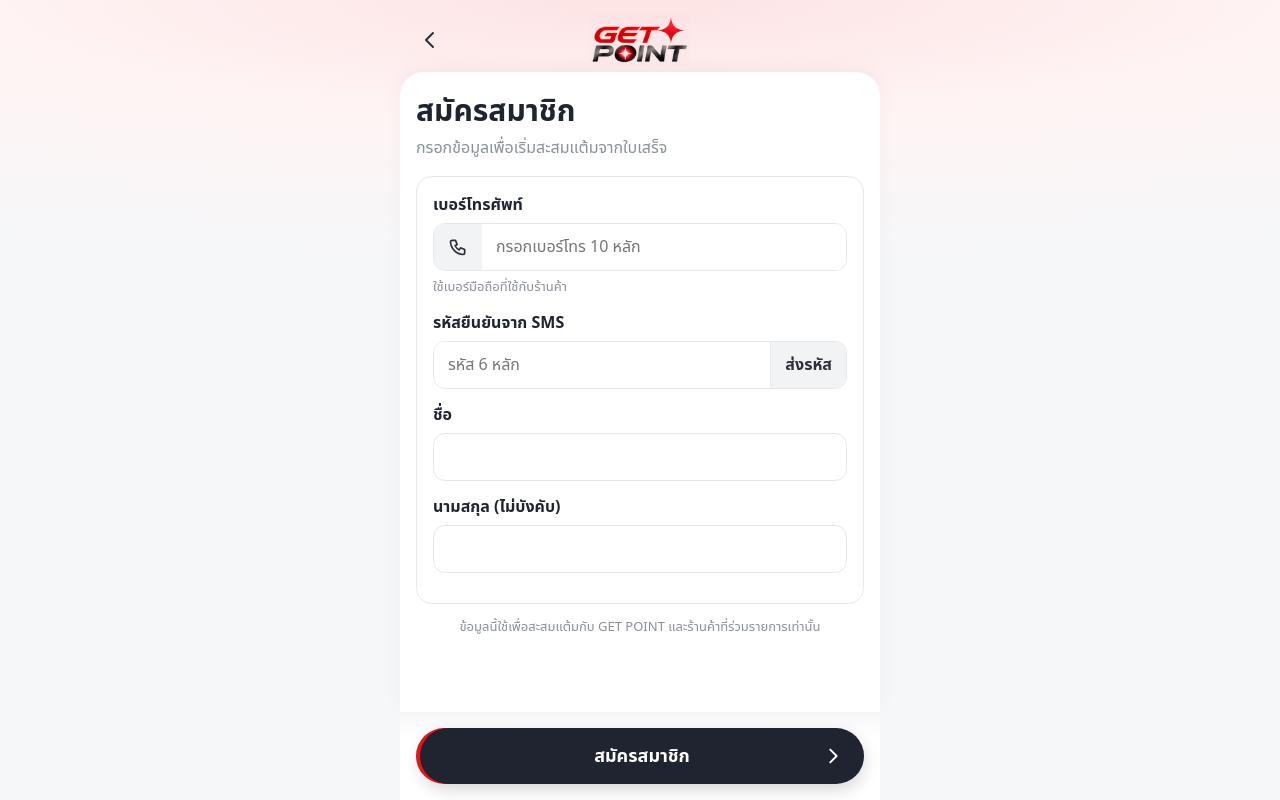
Scenario: sign-up › with SMS checking on: sends a code and shows a wrong-code message on the code field
In the field with placeholder "กรอกเบอร์โทร 10 หลัก": (664, 246) [482,224,846,270], type "0815551234"
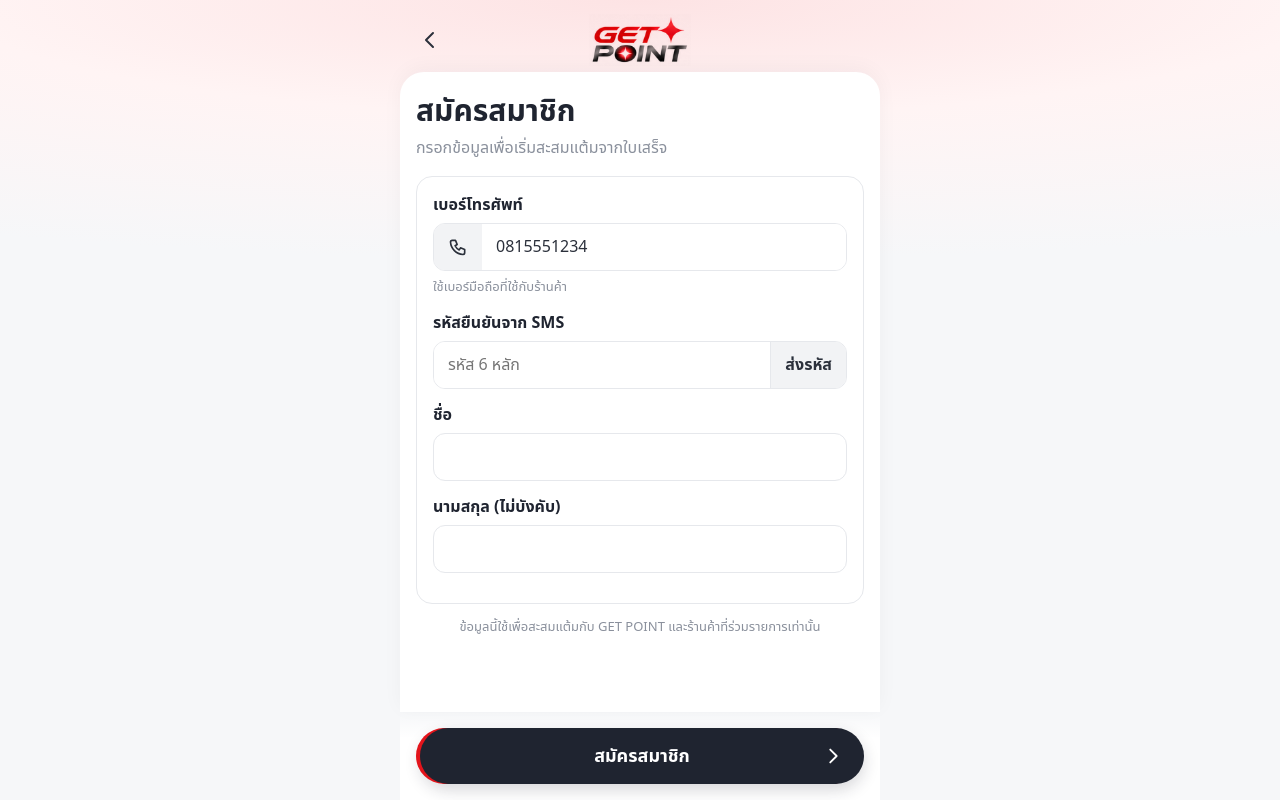
Click the button "ส่งรหัส": click(808, 364) [770,342,846,388]
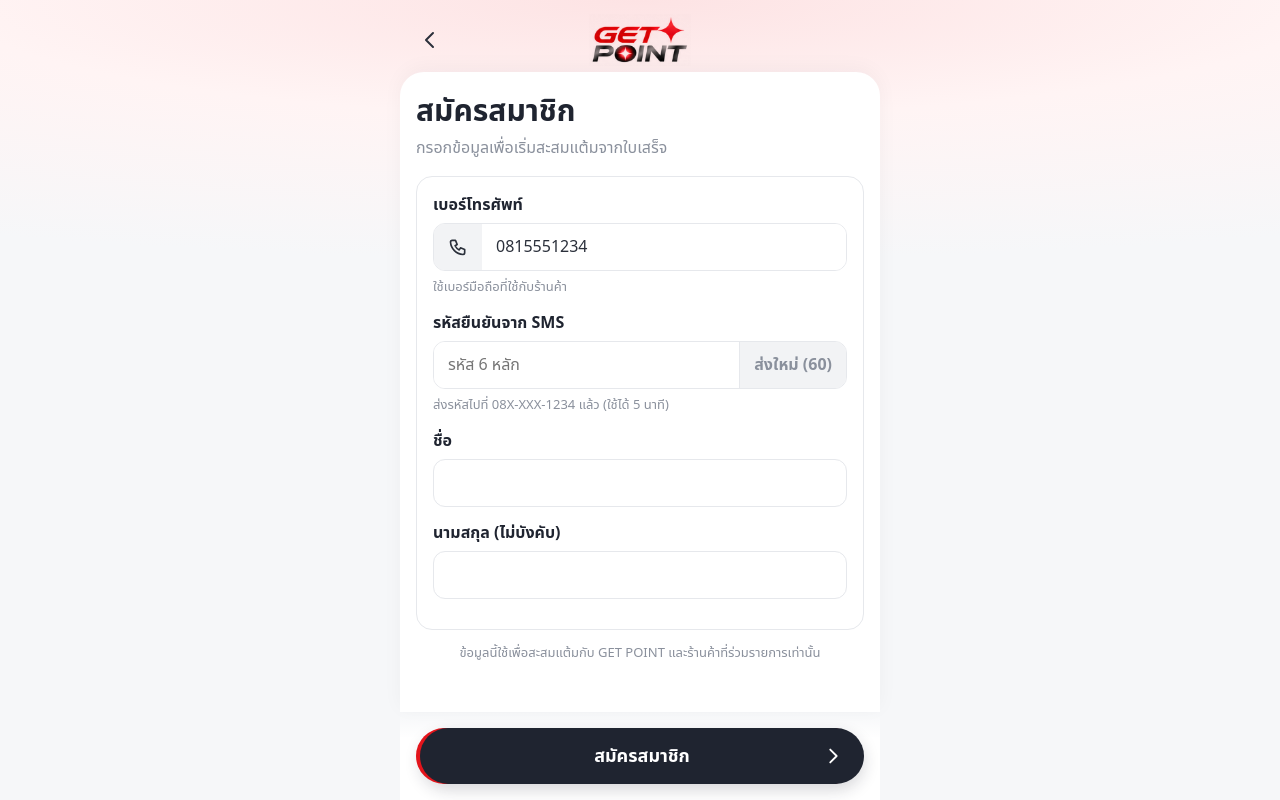
Check: the text "ส่งรหัสไปที่ 08X-XXX-1234 แล้ว (ใช้ได้ 5 นาที)" is shown, box [433,394,669,414]
Check: the button "ส่งใหม่ (60)" is disabled, box [739,342,846,388]
In the field with placeholder "รหัส 6 หลัก": (587, 364) [434,342,739,388], type "123456"
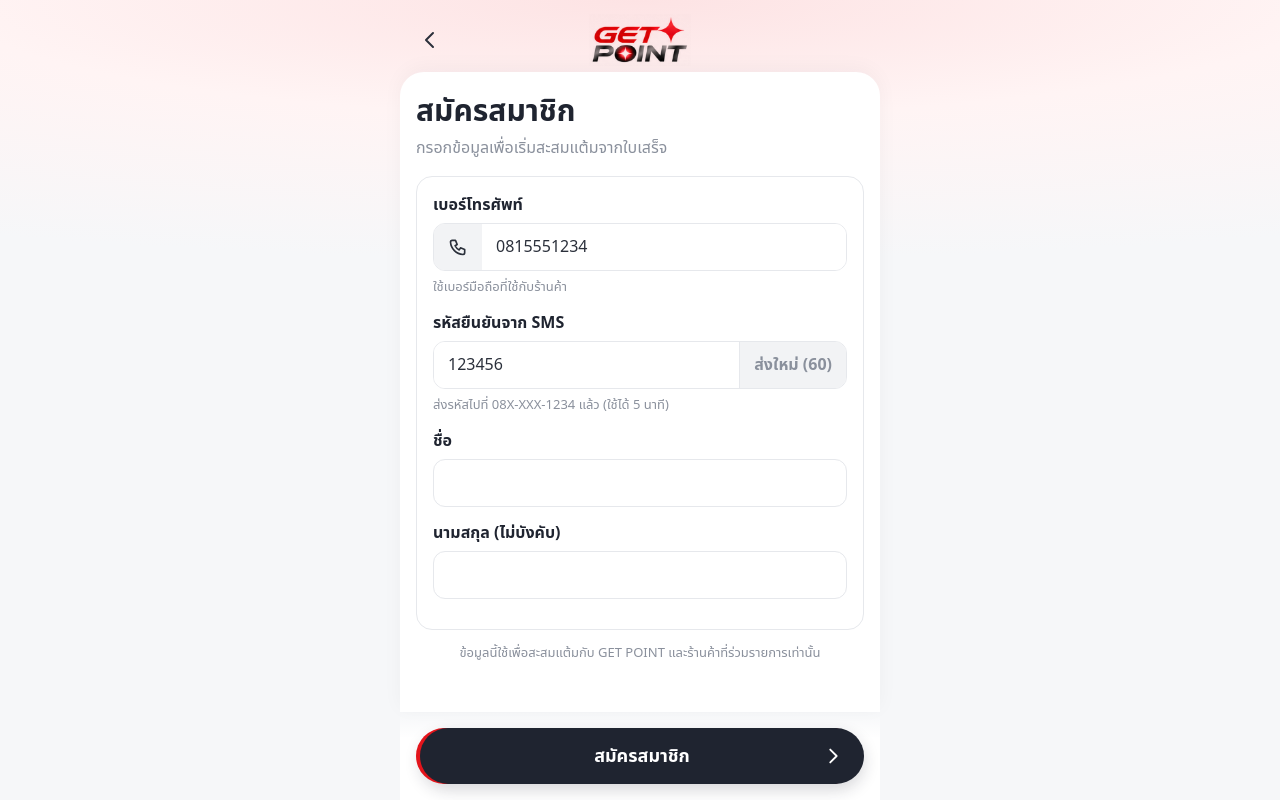
In the field labelled "ชื่อ": (640, 482) [433,458,847,506], type "เอ"
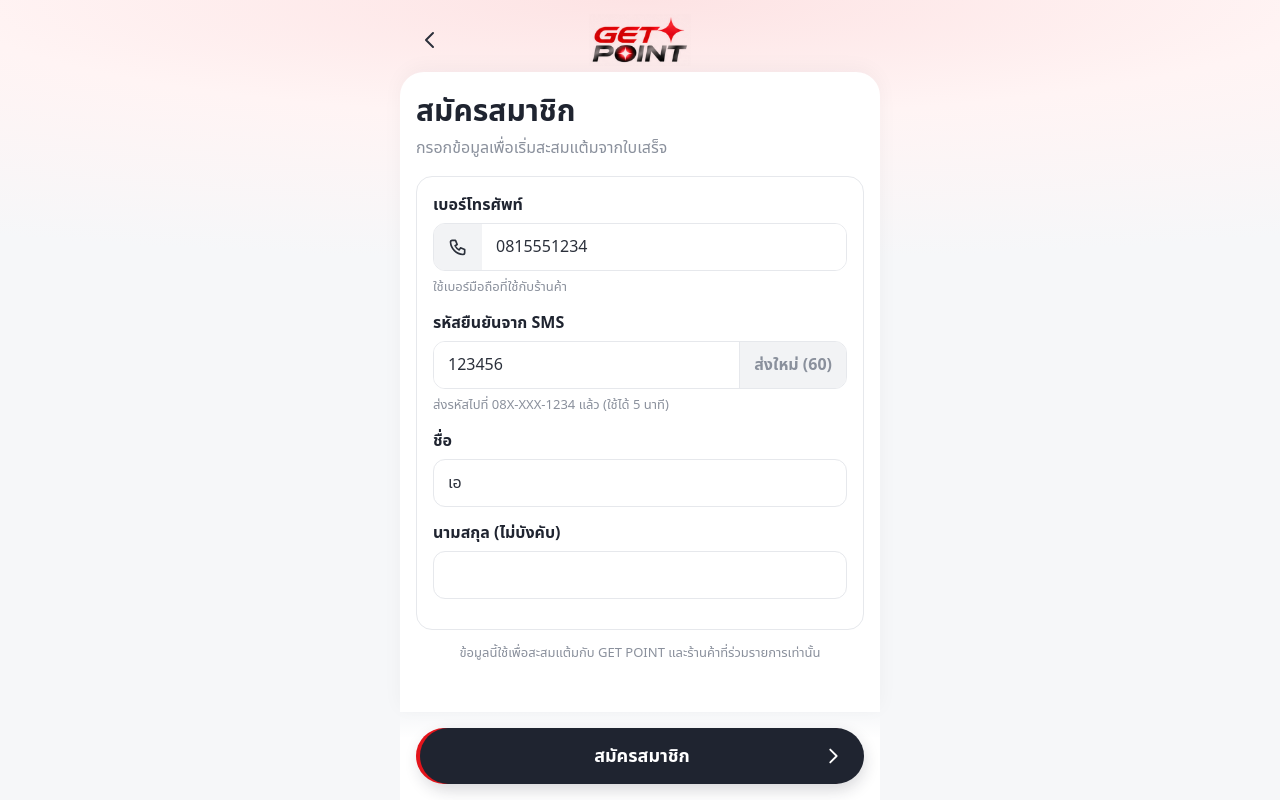
Click the button "สมัครสมาชิก": click(642, 756) [420,728,864,784]
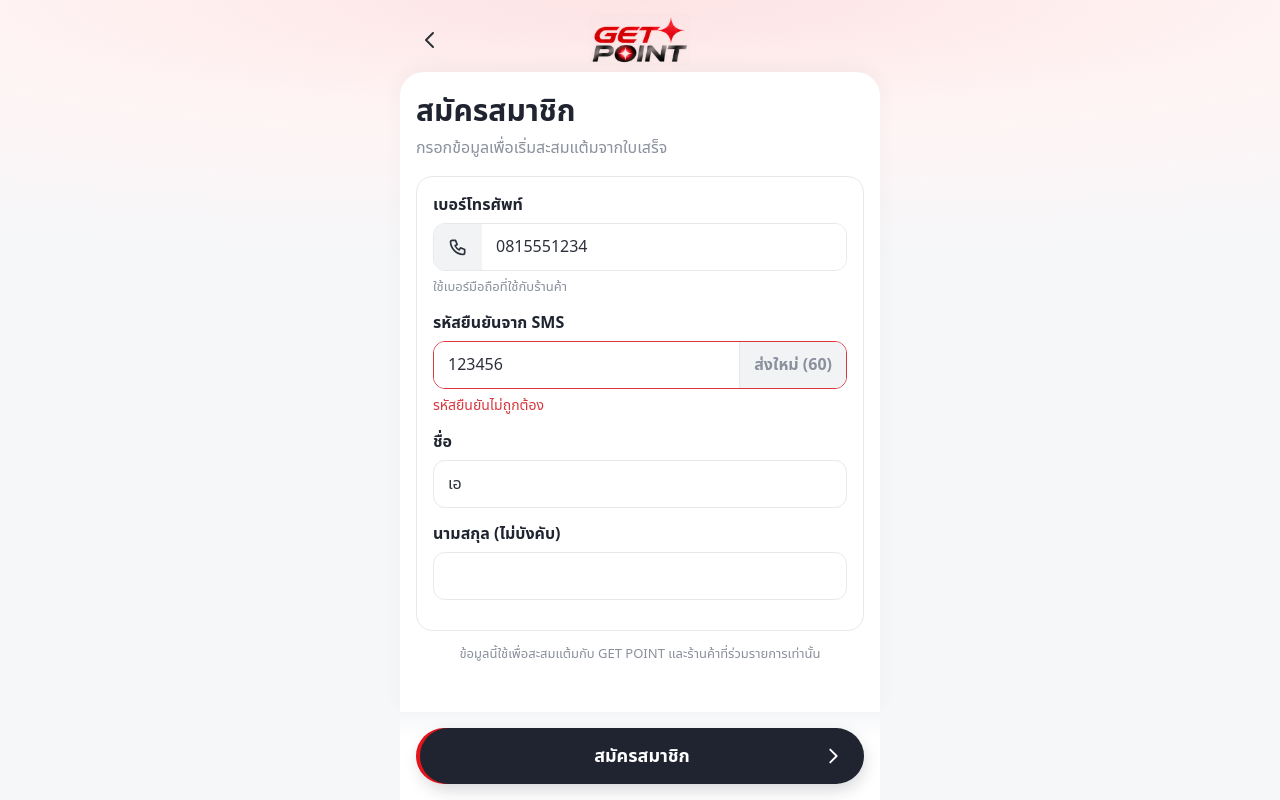
Check: the text "รหัสยืนยันไม่ถูกต้อง" is shown, box [433,394,544,416]
